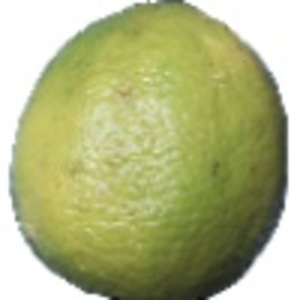limão: (1, 1, 288, 300)
